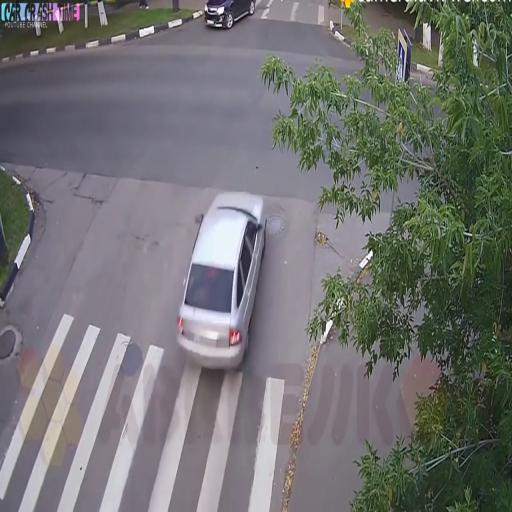小汽车: (180, 184, 269, 366), (201, 0, 259, 33)
